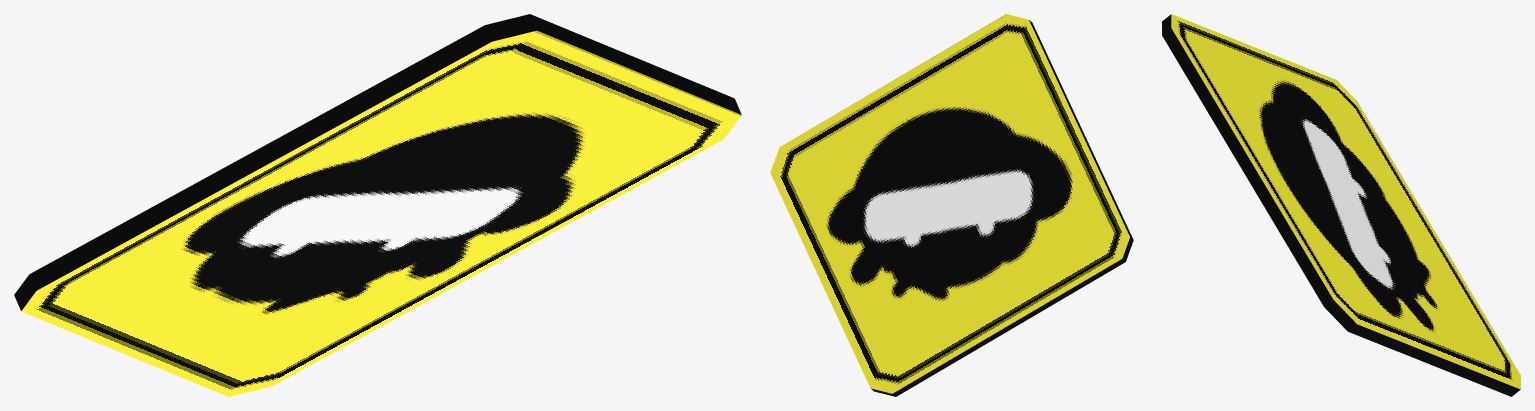
The model's file is ps2_save-icons_tonyhawksunderground2-tricks.glb.
The picture shows the model from 3 angles, left to right: view 1: azimuth 30°, elevation 25°; view 2: azimuth 150°, elevation 25°; view 3: azimuth 270°, elevation 25°; orthographic projection. The views are drawn at different scales.
Visible parts, largest first — view 1: tricks.ico; view 2: tricks.ico; view 3: tricks.ico.
Part boxes in pixels (x1,y1,x2,y2): tricks.ico: [14, 14, 741, 396]; tricks.ico: [770, 14, 1133, 396]; tricks.ico: [1162, 14, 1520, 396].
Bounding box in the file's own units: 4.75 × 3.64 × 3.22.
1 material, 1 textured.
